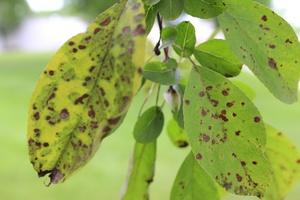Apple Scab Leaf: (20, 1, 148, 186), (181, 64, 281, 200), (208, 2, 300, 110)
